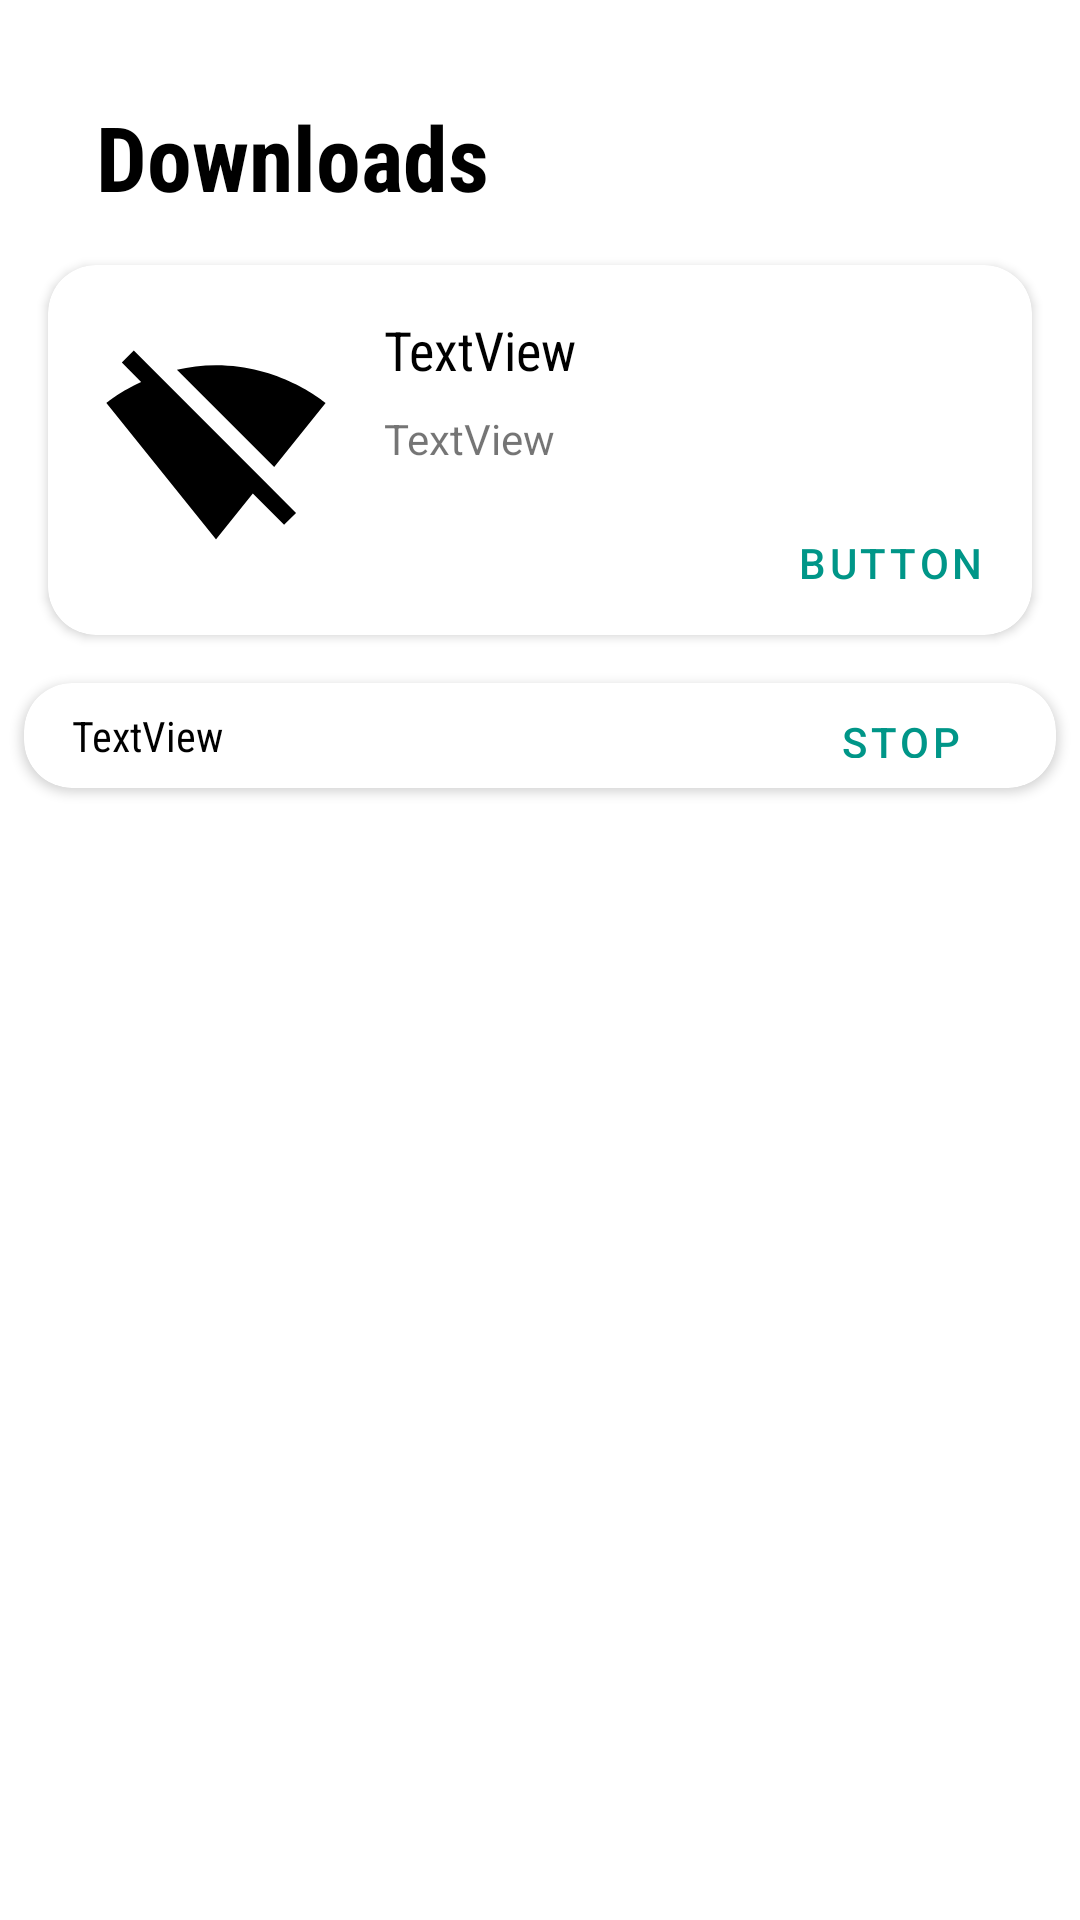

Screen size 1080 × 1920. Icon name, then its box in pixels as bbox(x1, y1, x2, y2):
no wifi: bbox(106, 350, 326, 539)
